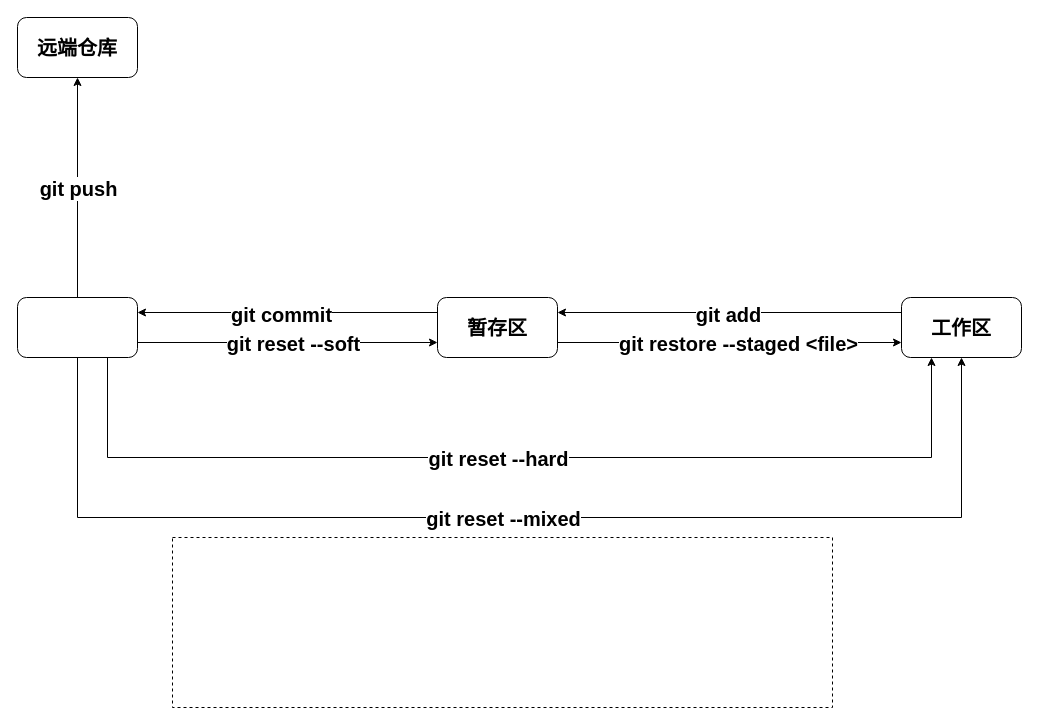
Image size: 1039x725. Some labels were removed from this diagram. Each missing label, with the centre of its shape:
"对于已纳入Git管理的文件，如果要丢弃工作区中的修改，可使用： git restore <file> git checkout -- <file> 完成该要求。" belongs at (502,622).
"本地仓库" belongs at (77,327).
